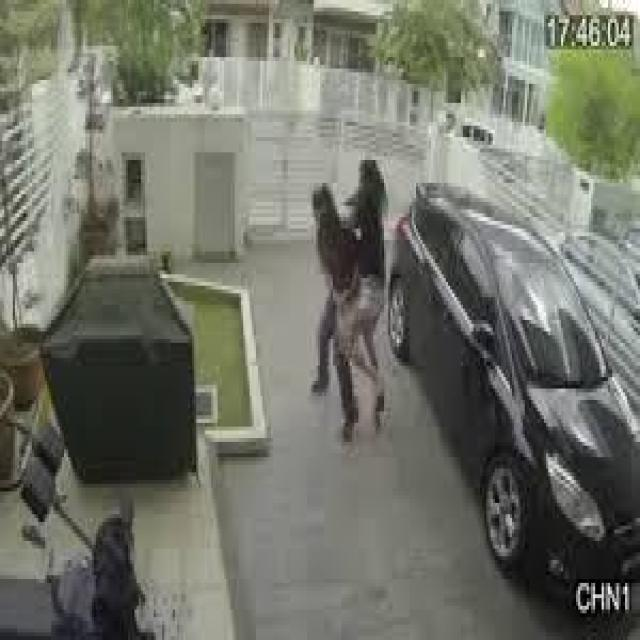fight: (286, 150, 403, 452)
